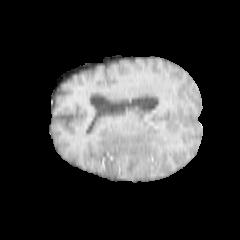glioma: (92, 121, 172, 179)
